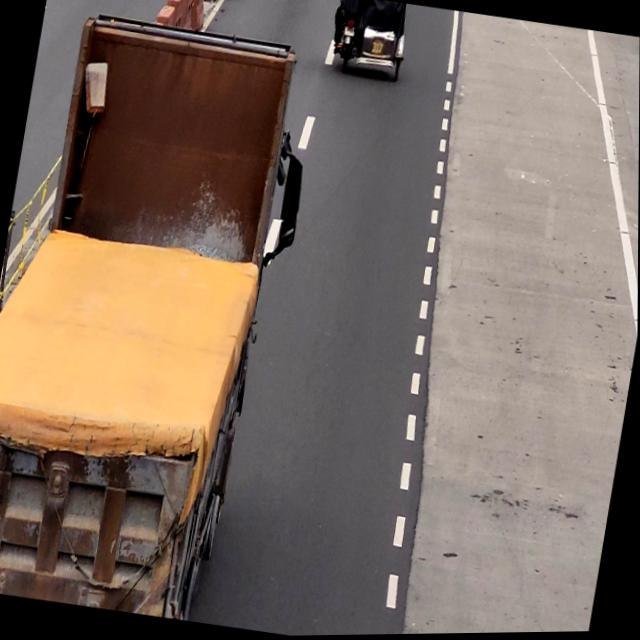Tricycle: (325, 0, 411, 82)
Truck: (0, 5, 304, 626)
